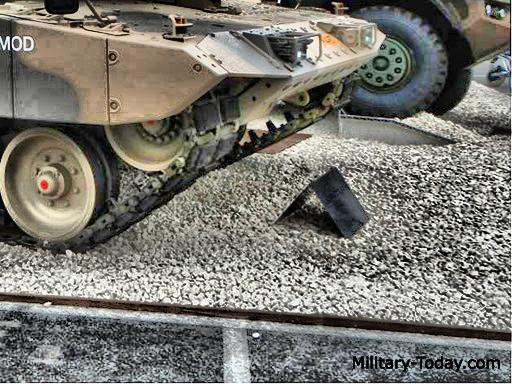tanks: (1, 1, 383, 249)
